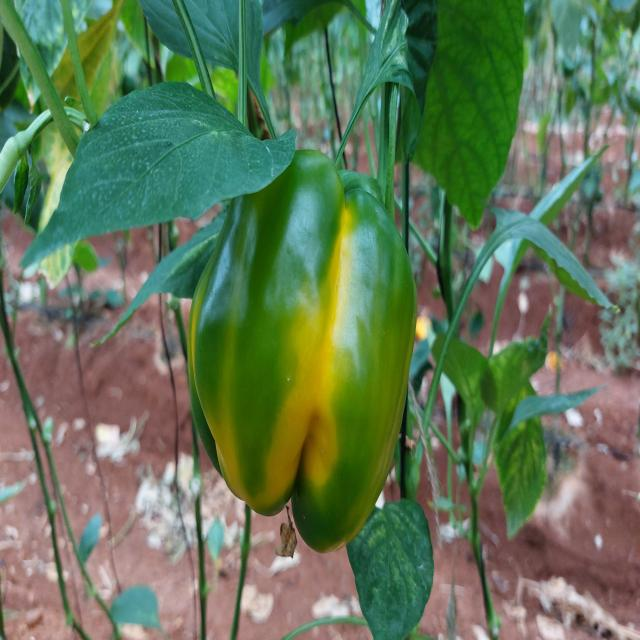GreenishYellow--Can-be-Harvested: (211, 103, 434, 546)
